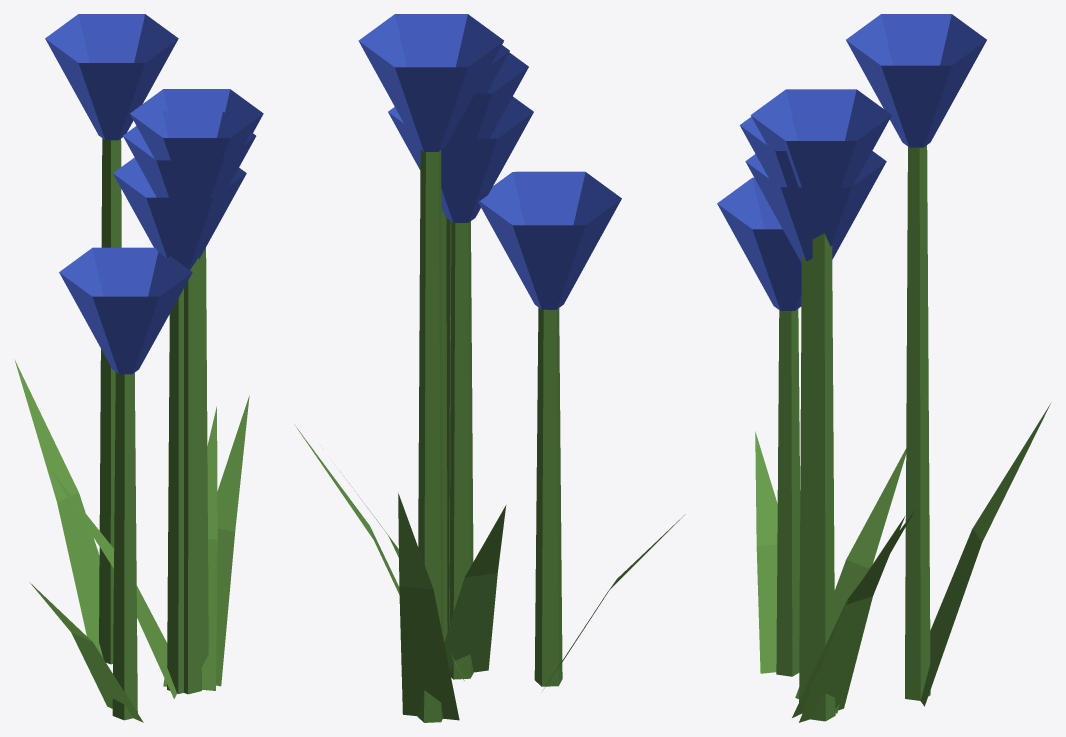
Rendered from Trail_Bellflower.obj.
3 views of the same model, side by side, from view 1: azimuth 30°, elevation 25°; view 2: azimuth 150°, elevation 25°; view 3: azimuth 270°, elevation 25° (orthographic). The views are drawn at different scales.
Visible parts, largest first — view 1: Trail_Bellflower; view 2: Trail_Bellflower; view 3: Trail_Bellflower.
Part boxes in pixels (x1=…): Trail_Bellflower: x1=14, y1=14, x2=263, y2=722; Trail_Bellflower: x1=294, y1=14, x2=685, y2=722; Trail_Bellflower: x1=717, y1=14, x2=1051, y2=722.
Bounding box in the file's own units: 0.1009 × 0.2045 × 0.0947.
